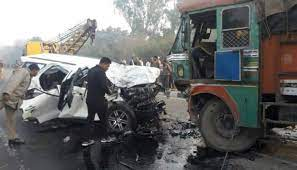accident: (12, 45, 242, 153)
